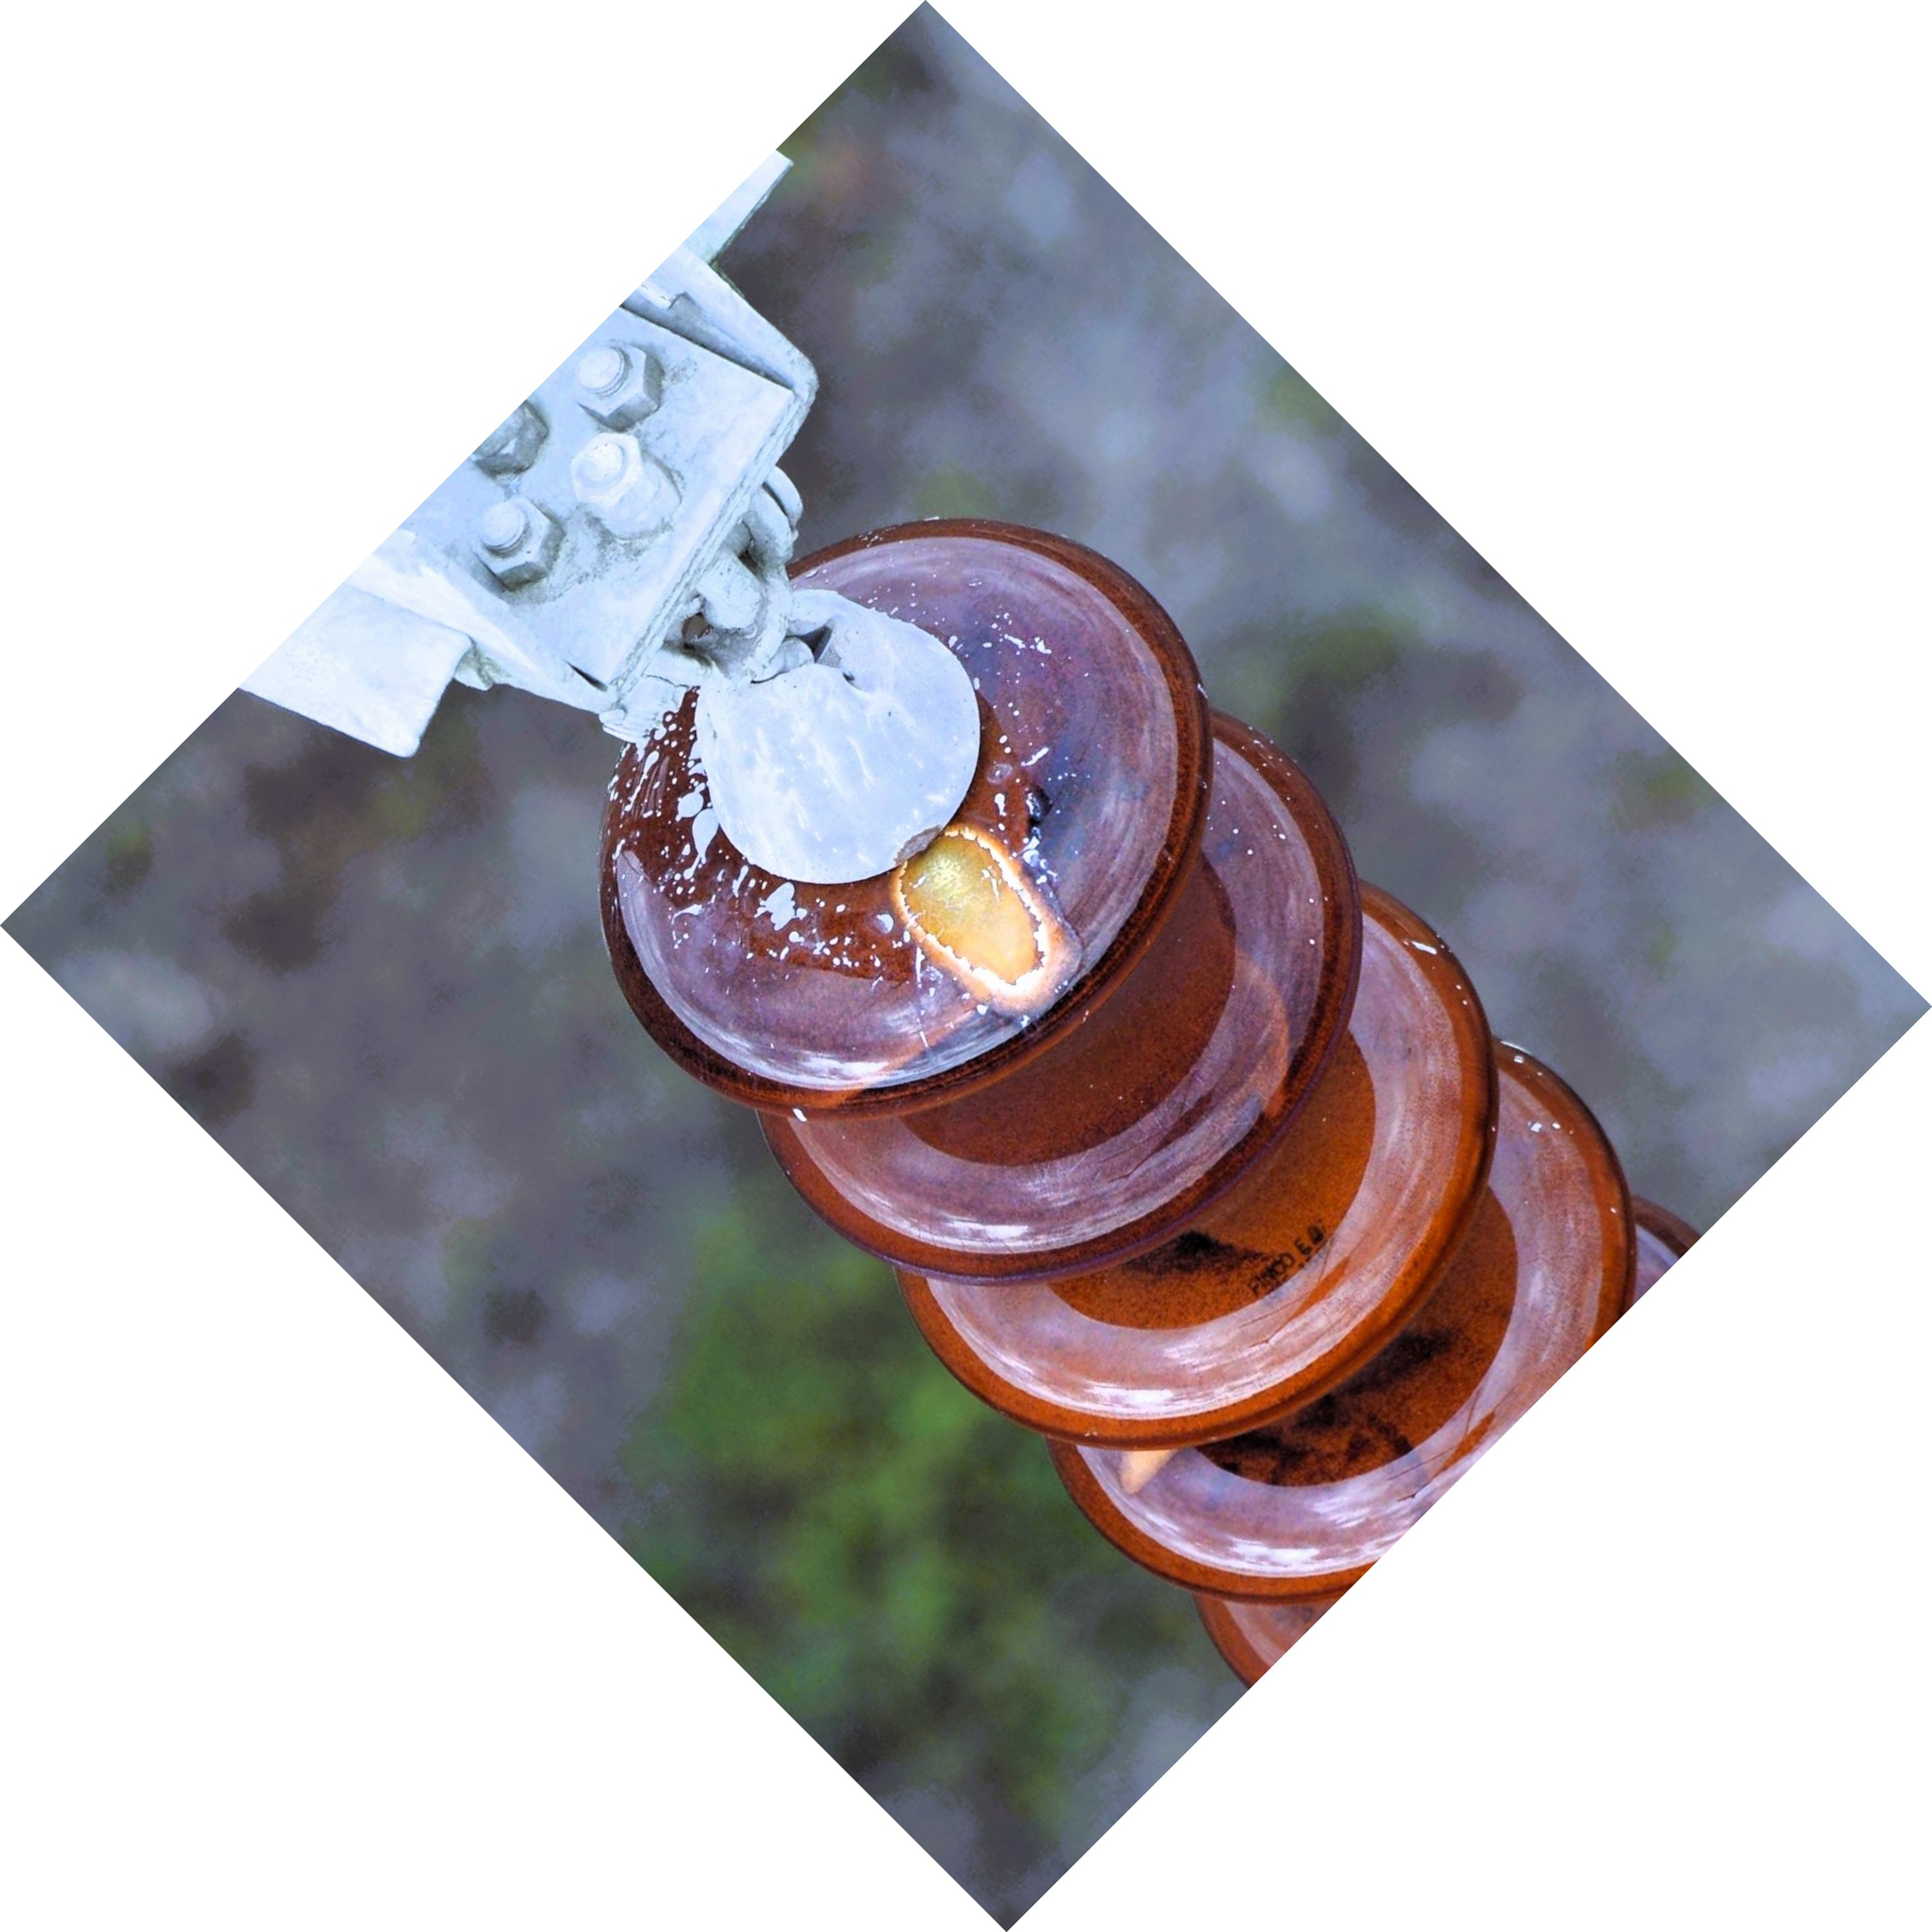Insulator flashover: (584, 492, 1221, 1115)
